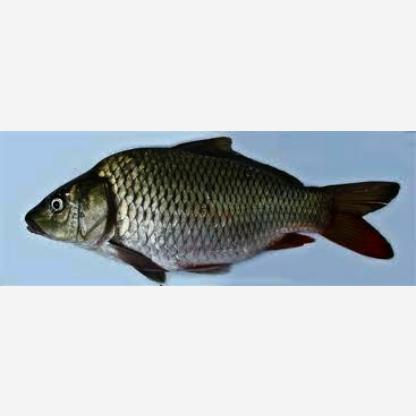ikan-mas: (20, 140, 396, 272)
